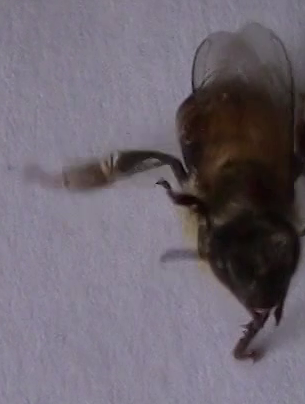Varroa destructor: (243, 173, 269, 205)
